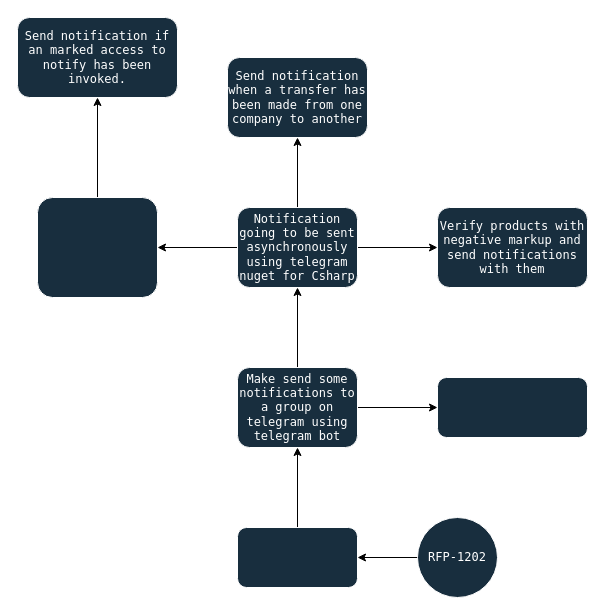
The diagram is 605 pixels wide and 615 high, and some of its shapes have lost their labels. The box of each missing label's shape, as (x1, y1, x2, y2) in pixels:
Integrate Telegram with Farma Pro: (236, 526, 358, 588)
Send image after cashier has been closed to the group on telegram: (36, 196, 158, 298)
To Configure you must inform group id and bot key in the correct format: (436, 376, 588, 438)
